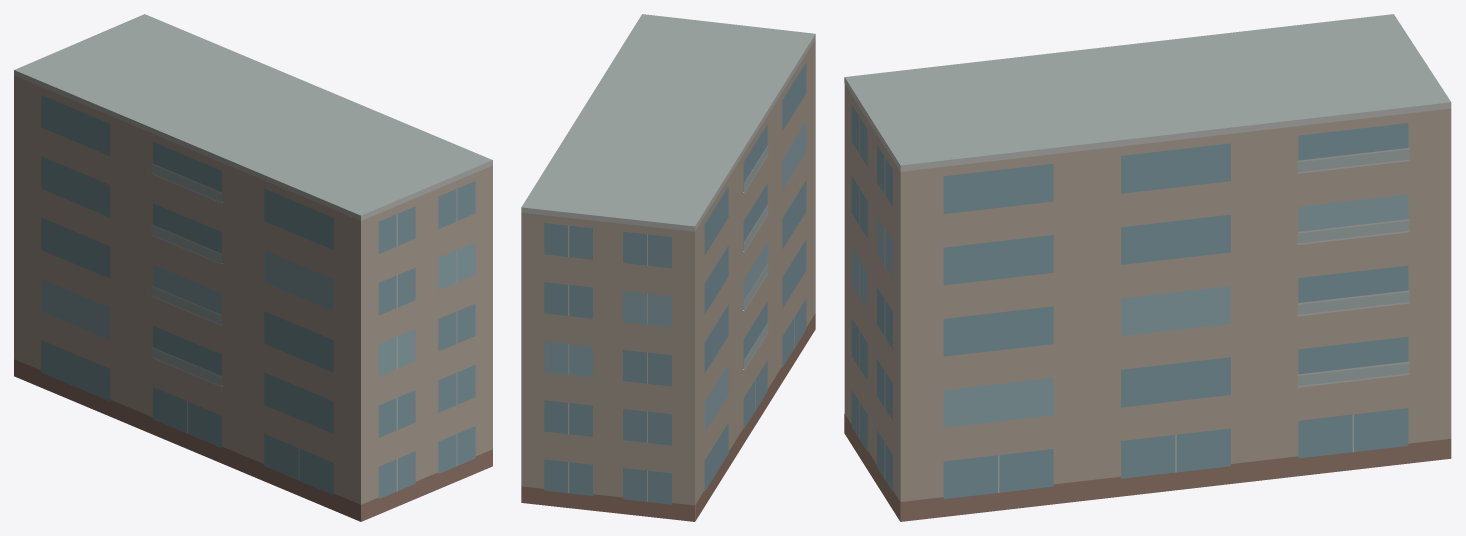
File: survey-upis-33013312.glb
The picture shows the model from 3 angles, left to right: view 1: azimuth 30°, elevation 25°; view 2: azimuth 150°, elevation 25°; view 3: azimuth 270°, elevation 25°; orthographic projection. The views are drawn at different scales.
Visible parts, largest first — view 1: survey-upis-33013312.tmp; view 2: survey-upis-33013312.tmp; view 3: survey-upis-33013312.tmp.
Boxes of the visible parts, bbox=[...] form: survey-upis-33013312.tmp: bbox=[14, 14, 492, 521]; survey-upis-33013312.tmp: bbox=[521, 14, 815, 521]; survey-upis-33013312.tmp: bbox=[844, 14, 1451, 521].
Size of the model in its own units: 12.68 by 13.9 by 21.46.
